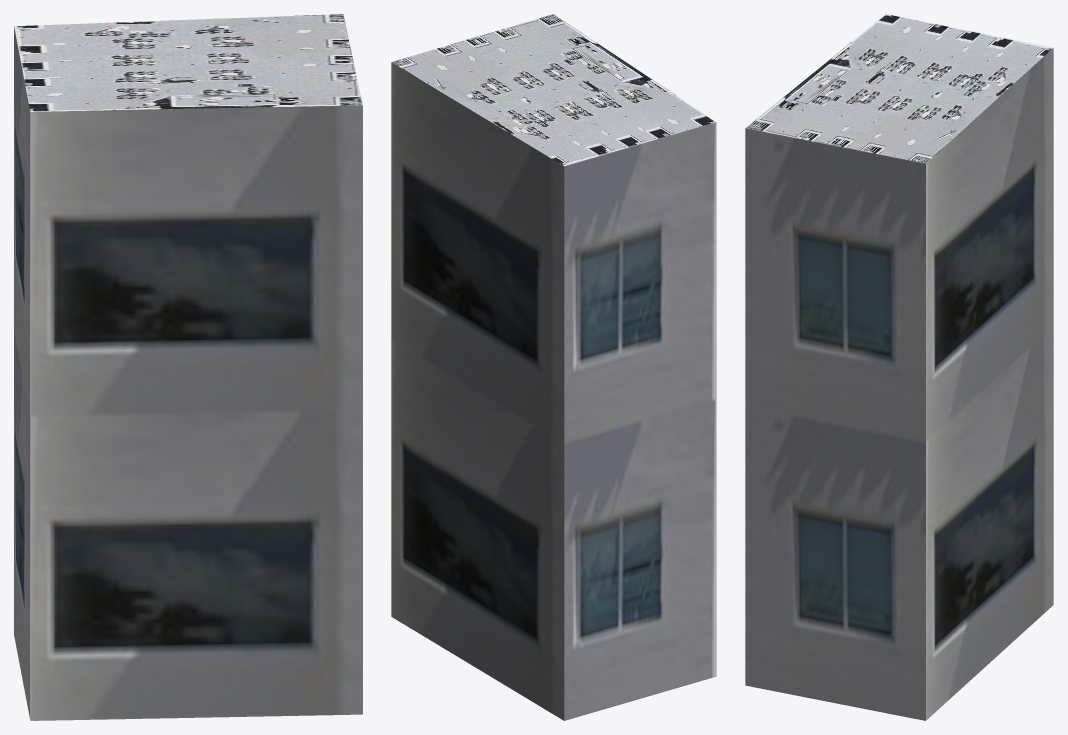
File: ResTex__3013.fbx
3 views of the same model, side by side, from view 1: azimuth 30°, elevation 25°; view 2: azimuth 150°, elevation 25°; view 3: azimuth 270°, elevation 25° (orthographic). The views are drawn at different scales.
Visible parts, largest first — view 1: CityEngineMaterial_10_m, CityEngineMaterial_2_m; view 2: CityEngineMaterial_10_m, CityEngineMaterial_2_m; view 3: CityEngineMaterial_10_m, CityEngineMaterial_2_m.
Boxes of the visible parts, left/top/right/bottom form: CityEngineMaterial_10_m: left=14, top=26, right=362, bottom=720; CityEngineMaterial_2_m: left=14, top=14, right=362, bottom=111; CityEngineMaterial_10_m: left=391, top=62, right=716, bottom=720; CityEngineMaterial_2_m: left=391, top=14, right=716, bottom=166; CityEngineMaterial_10_m: left=745, top=48, right=1053, bottom=720; CityEngineMaterial_2_m: left=746, top=14, right=1052, bottom=163.
Size of the model in its own units: 3.46 by 6 by 3.01.
2 materials, 2 textured.
